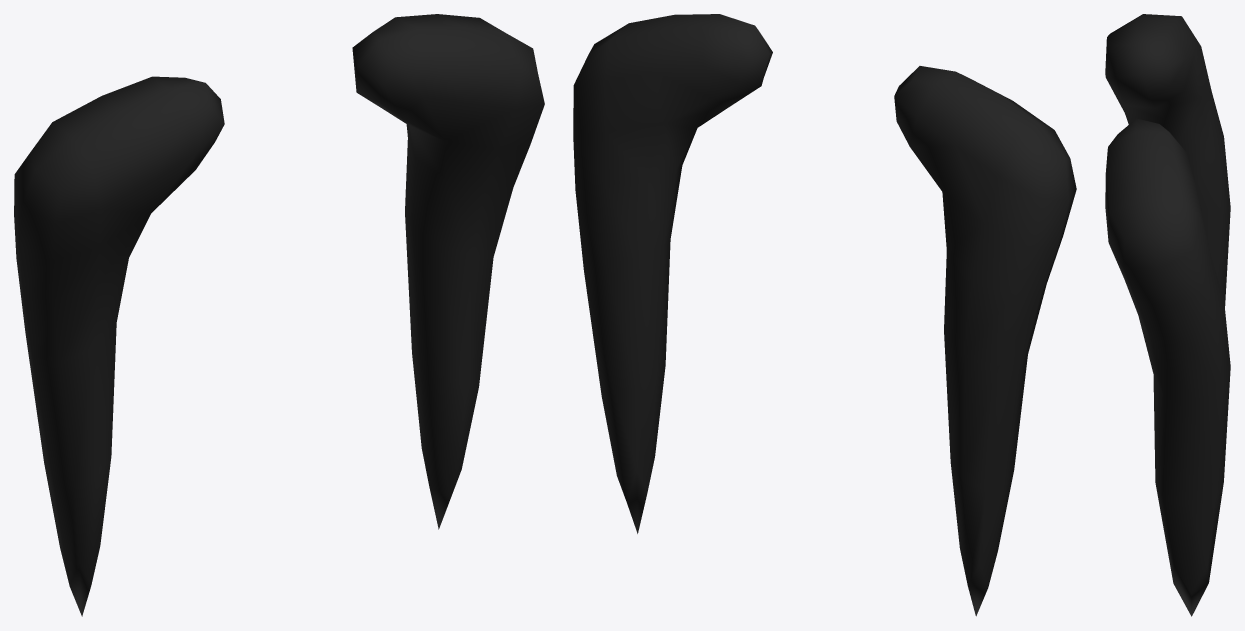
File: Mustache_Black_005.glb
3 renders of one model, left to right at view 1: azimuth 30°, elevation 25°; view 2: azimuth 150°, elevation 25°; view 3: azimuth 270°, elevation 25°, orthographic. The views are drawn at different scales.
Parts seen in each view (by area): view 1: Mustache_Black_005; view 2: Mustache_Black_005; view 3: Mustache_Black_005.
Boxes of the visible parts, x1,y1,x2,y2 form: Mustache_Black_005: [14, 14, 544, 616]; Mustache_Black_005: [573, 14, 1076, 616]; Mustache_Black_005: [1105, 14, 1230, 616].
Size of the model in its own units: 0.1383 by 0.138 by 0.0339.
1 material, 1 textured.
